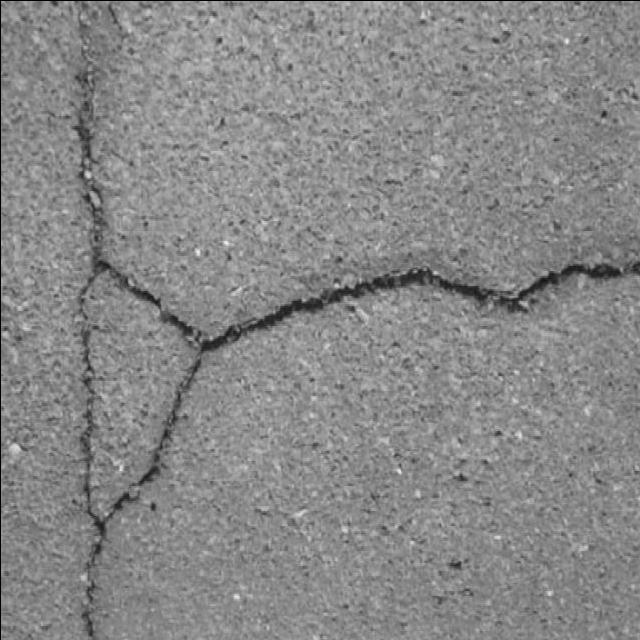SurfaceCrack: (4, 183, 640, 388)
